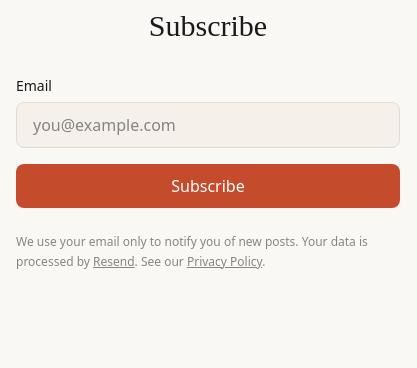
Test: SubscribePage › shows a generic error message on non-429 failures
Type "r@x.com" into the field labelled "Email" at (208, 125), box [16,102,400,148]
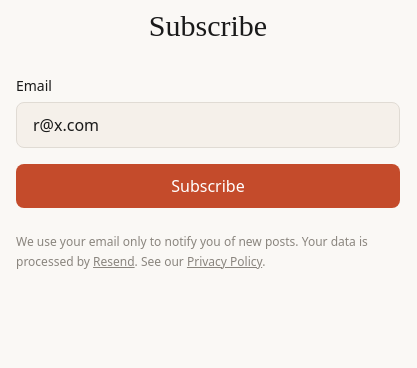
Click the button "Subscribe" at (208, 186), box [16,164,400,208]
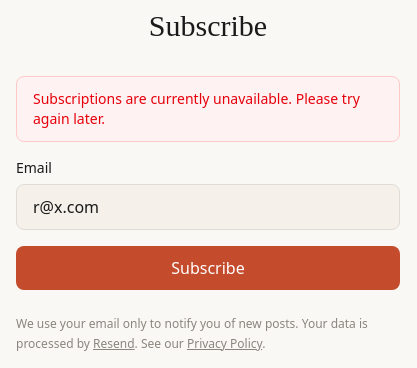
Result: the text "unavailable" is shown at [33,89,360,128]
